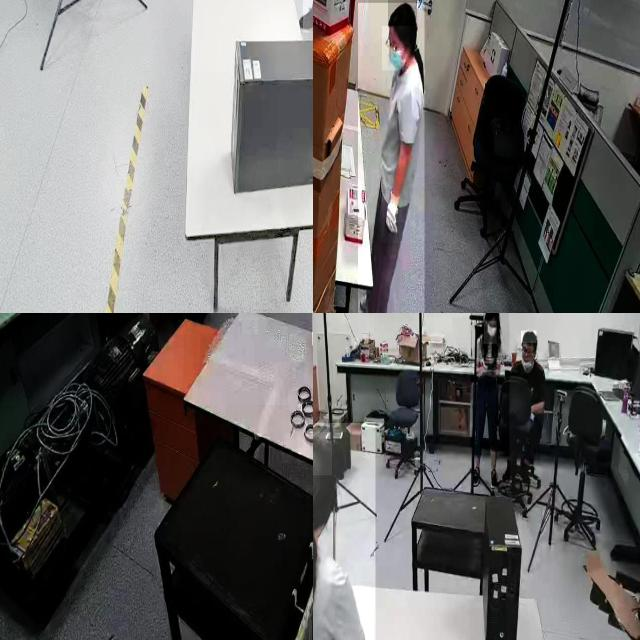face_mask: (382, 26, 410, 70), (484, 321, 496, 344)
face_nomask: (522, 345, 534, 367)
hand_glove: (382, 194, 402, 244)
head_nohelmet: (313, 431, 332, 476), (388, 0, 418, 27), (521, 330, 537, 344), (483, 313, 498, 317)
person: (358, 2, 425, 313), (313, 423, 376, 640), (470, 313, 509, 496), (509, 324, 547, 498)
shoes: (294, 0, 313, 34), (487, 466, 501, 494), (471, 463, 484, 489)
